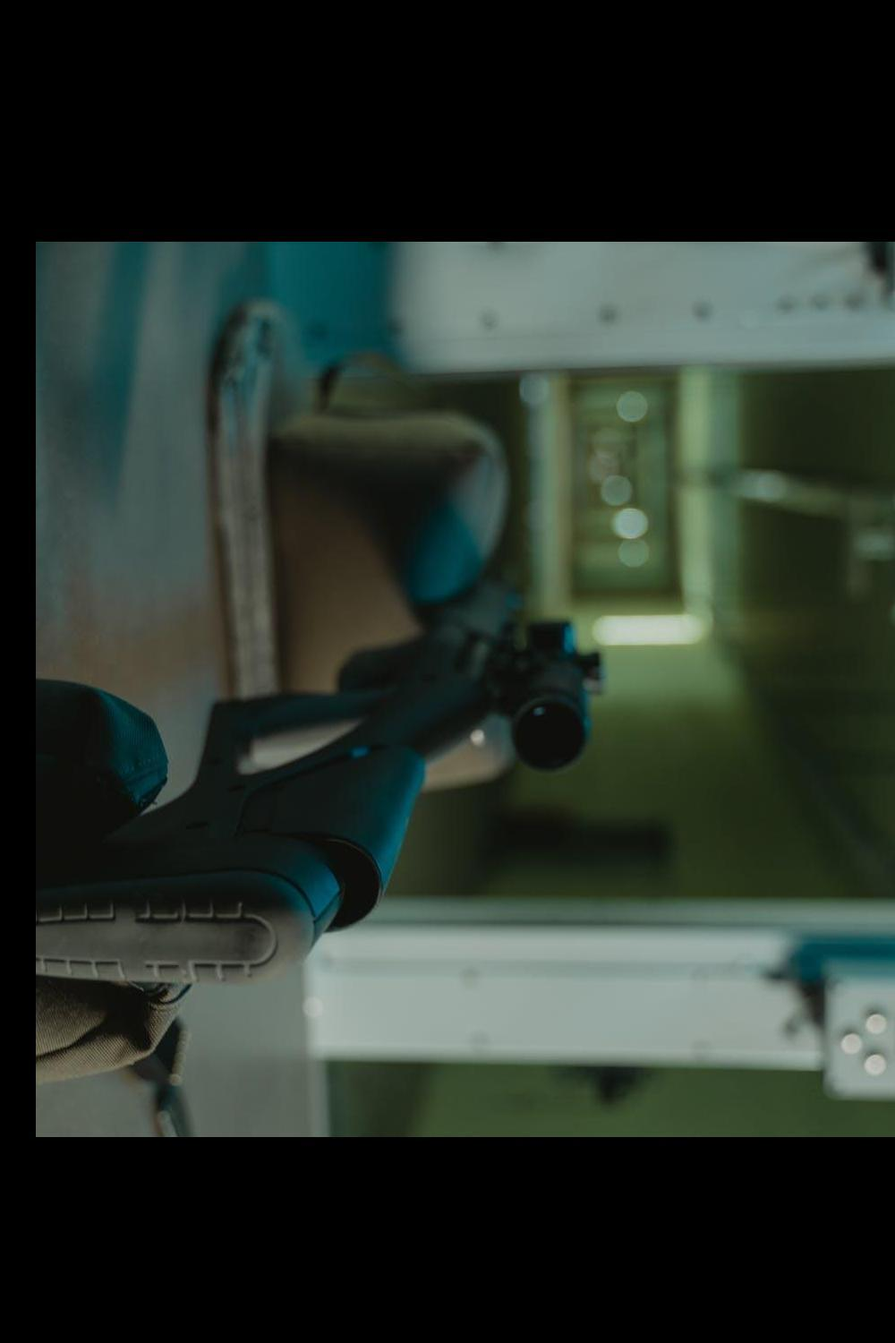larga: (35, 585, 608, 985)
